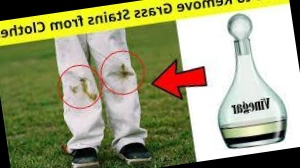earth: (72, 77, 96, 102), (114, 61, 132, 82)
